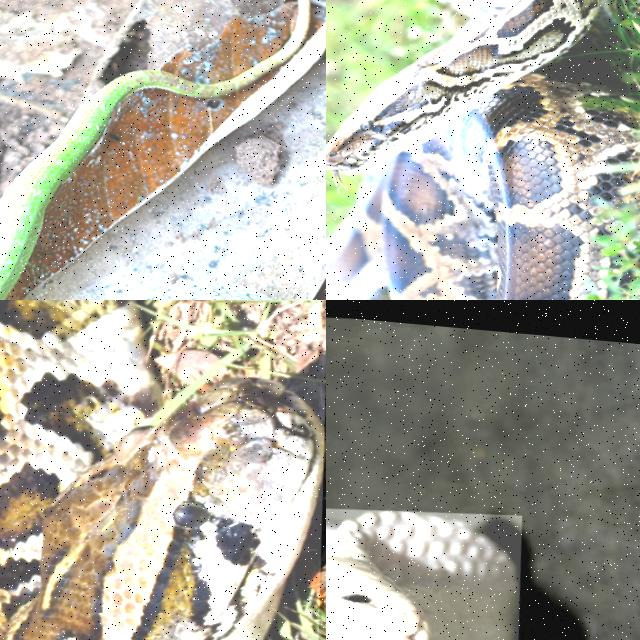Naja kaouthia: (326, 511, 520, 639)
Python bivittatus: (0, 300, 324, 639), (326, 0, 639, 299)
Trimeresurus: (0, 0, 309, 299)
